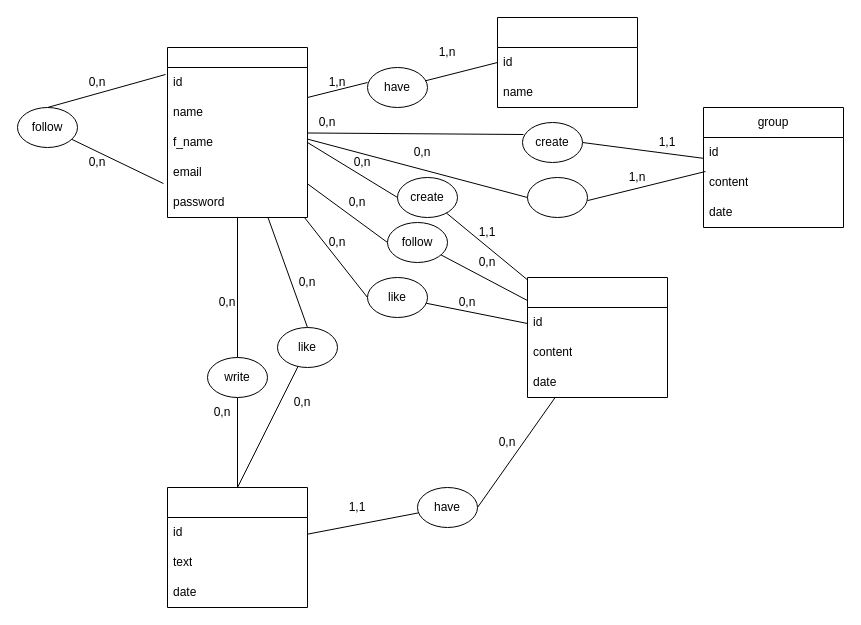
This 861x625 diagram has some shape labels left out. Each missing label, with the box of its shape:
belong: (526, 176, 588, 218)
comment: (166, 486, 308, 608)
dbuser: (166, 46, 308, 218)
publication: (526, 276, 668, 398)
role: (496, 16, 638, 108)
